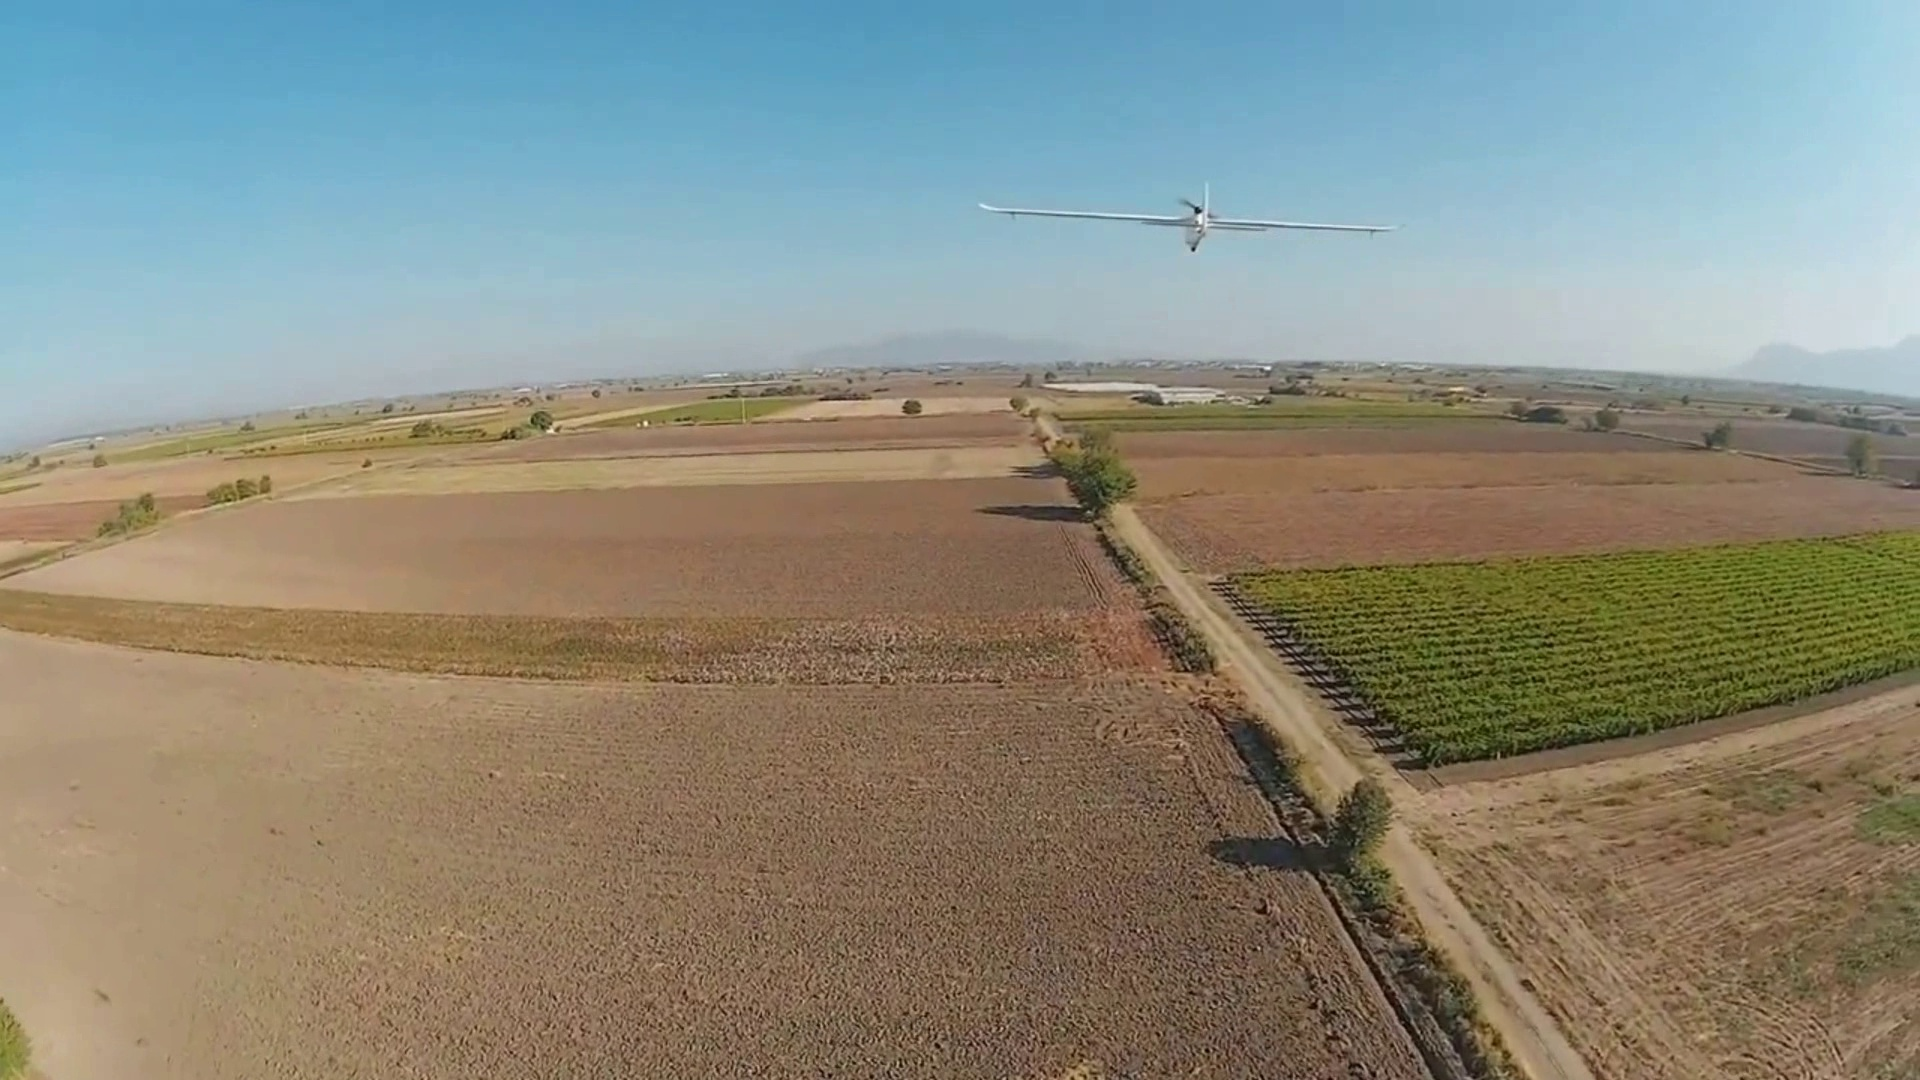airplane: (977, 186, 1395, 251)
